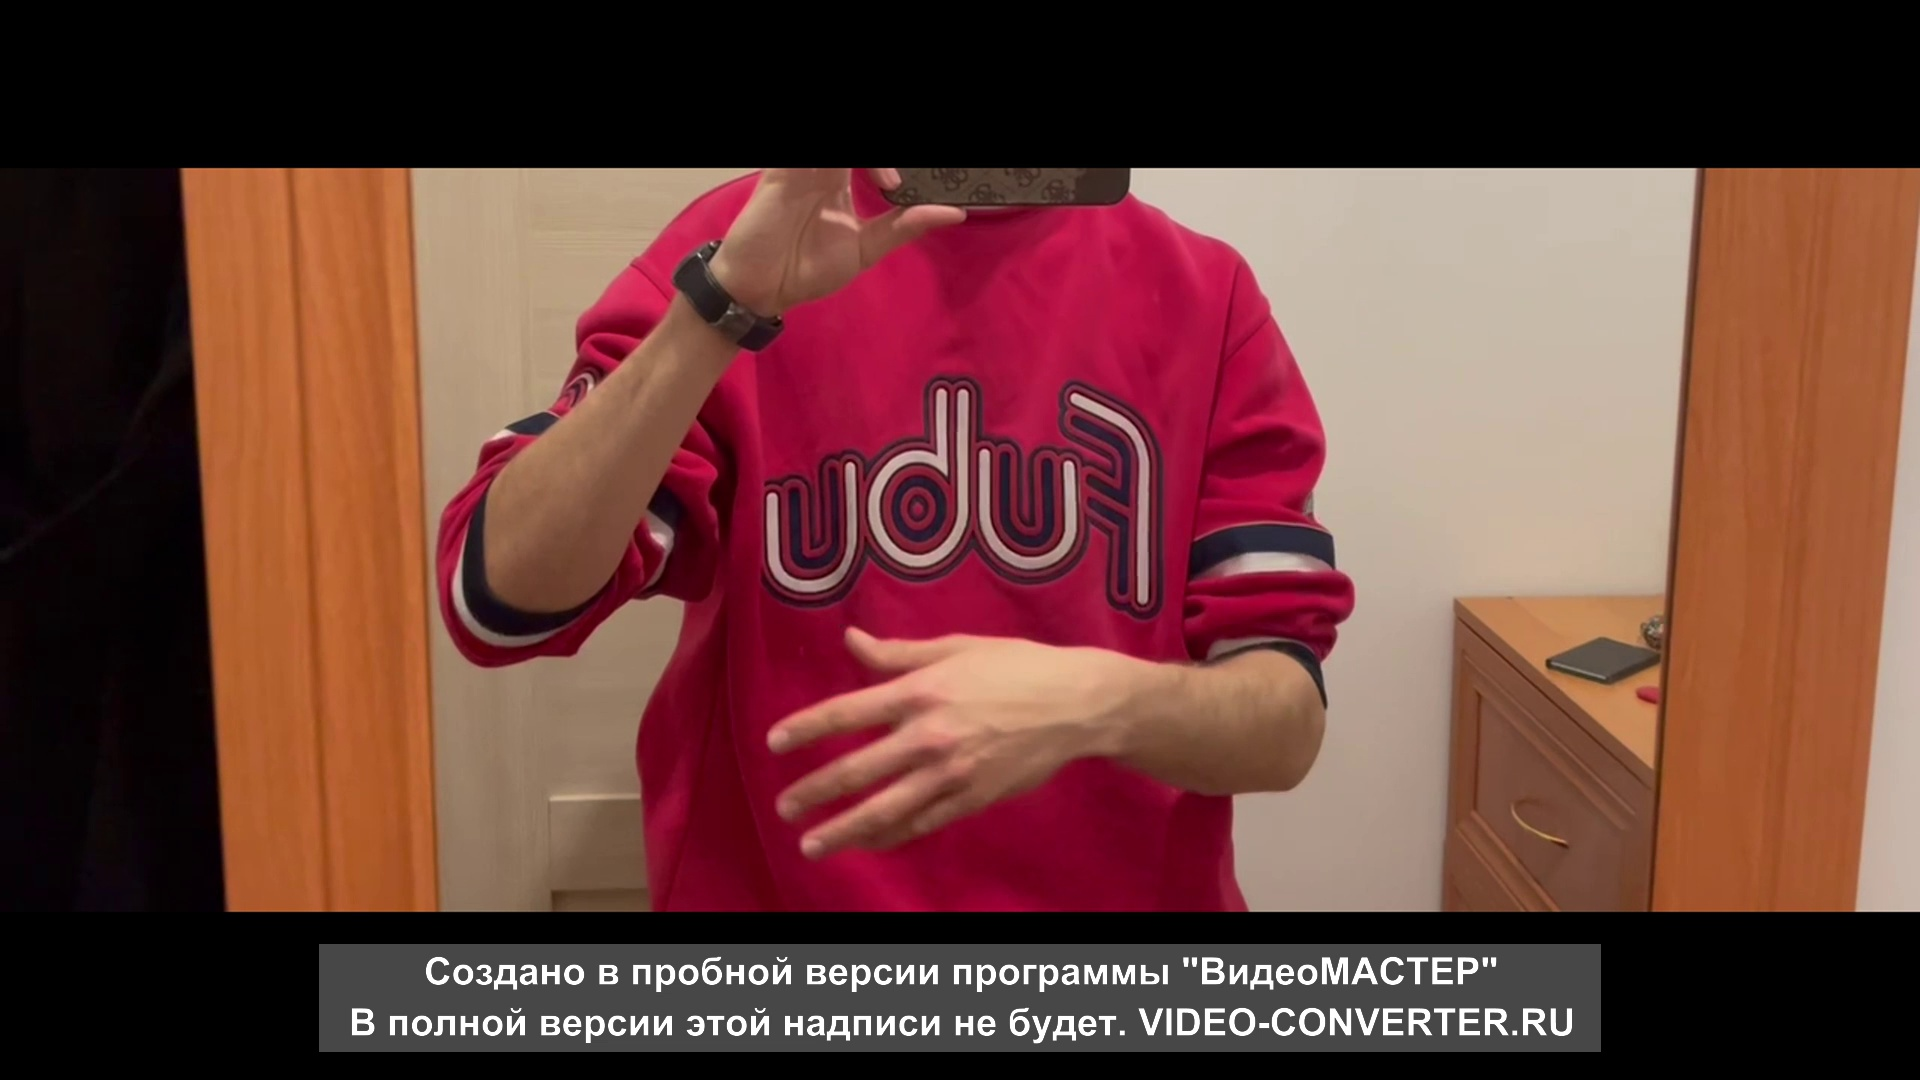Кисть: (762, 622, 1127, 866)
